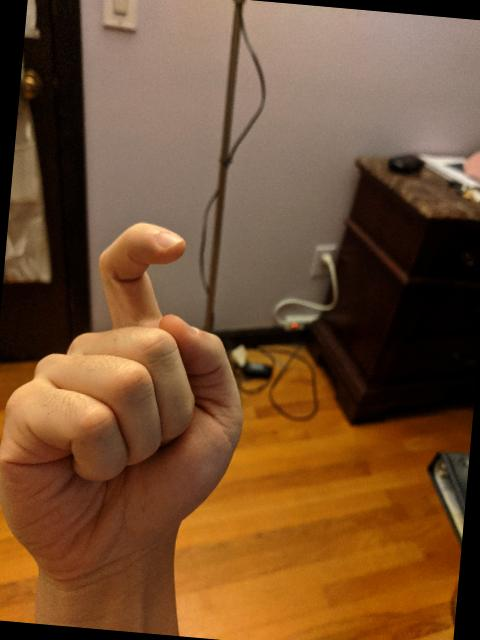X: (0, 203, 265, 592)
